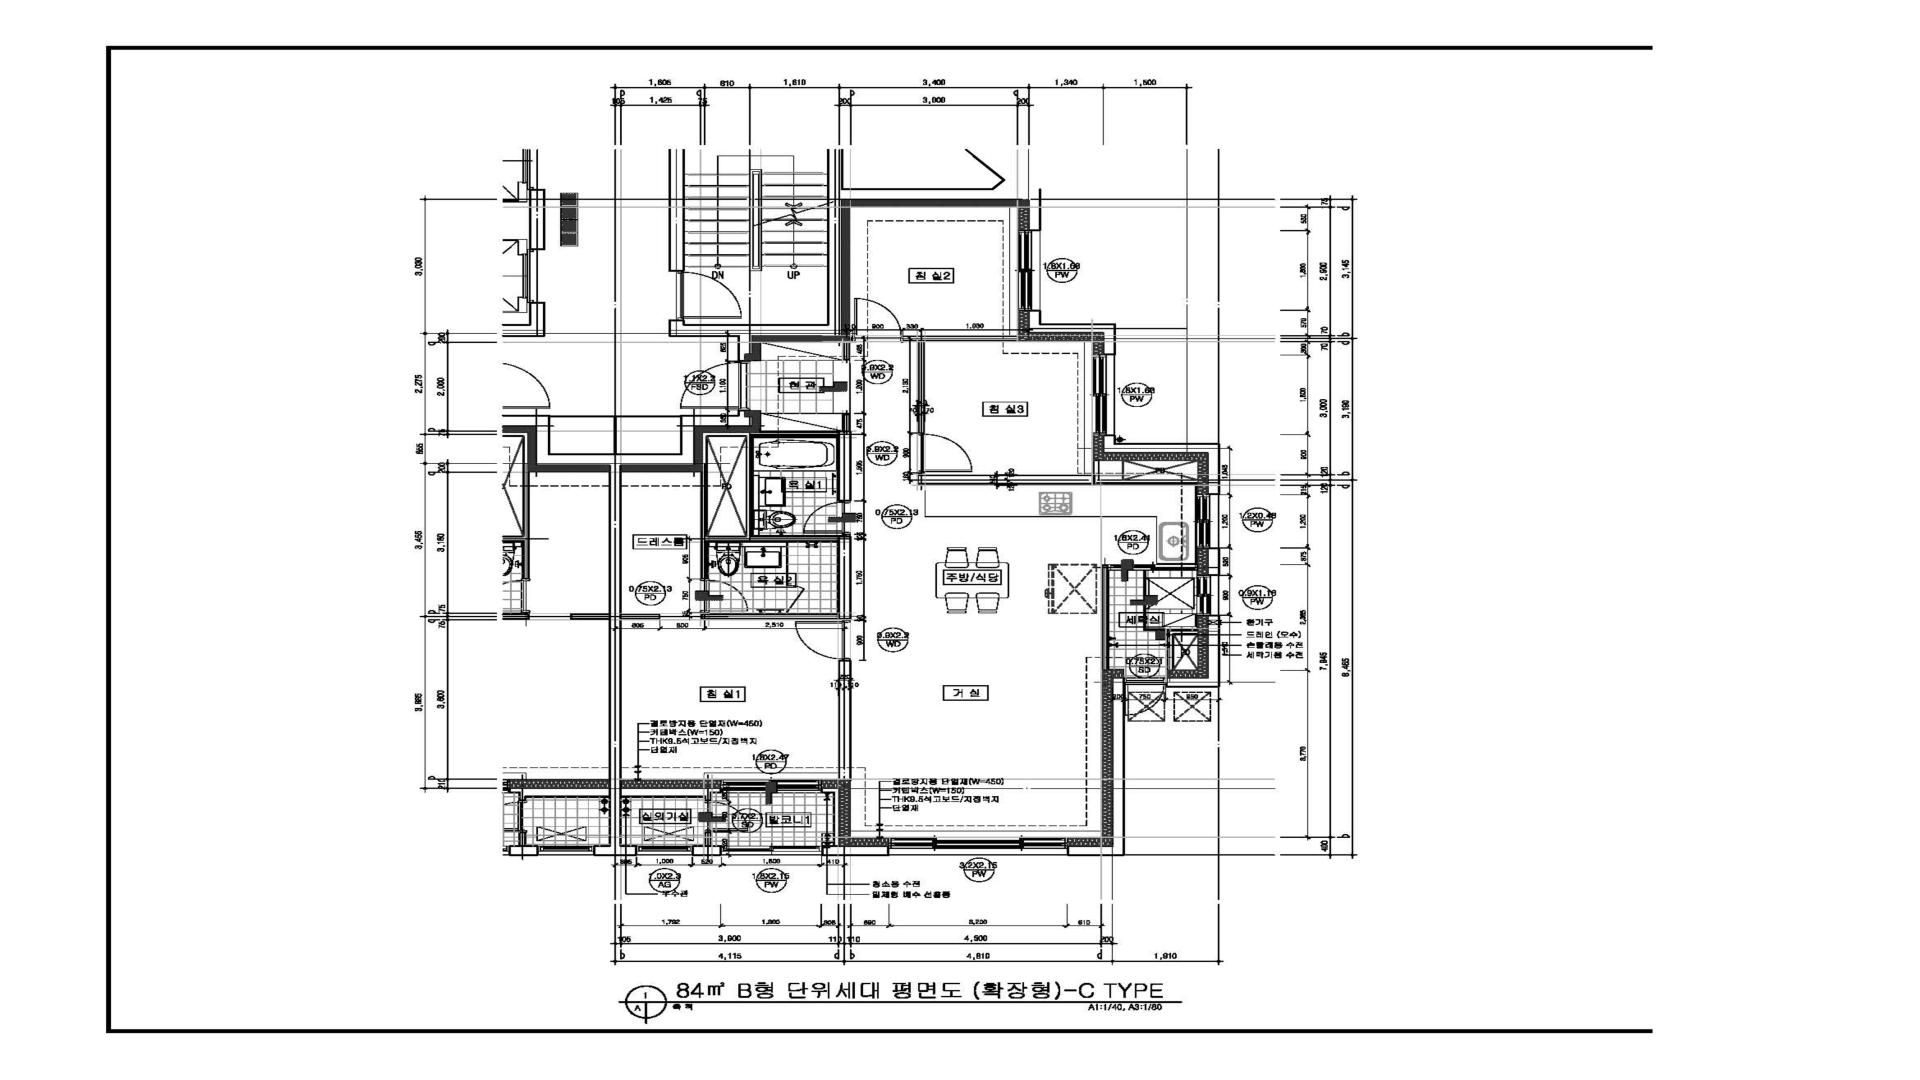door: (680, 360, 751, 410), (676, 272, 743, 319), (850, 297, 902, 341), (794, 620, 851, 660), (922, 435, 978, 474), (804, 501, 851, 536), (700, 579, 747, 613), (1126, 678, 1166, 716), (704, 802, 749, 832), (1109, 563, 1197, 571)
wall: (502, 410, 752, 855), (668, 150, 1041, 361), (1068, 678, 1125, 856), (1105, 435, 1221, 495), (1167, 615, 1221, 688), (1028, 311, 1115, 355), (1092, 461, 1207, 485), (669, 149, 686, 271), (1167, 629, 1207, 676), (917, 475, 1092, 485), (839, 660, 851, 779), (902, 329, 1018, 341), (621, 789, 720, 801), (838, 536, 852, 619), (838, 413, 851, 501), (702, 437, 710, 579), (821, 788, 840, 845), (702, 613, 838, 620), (746, 437, 755, 535), (709, 536, 837, 542), (1102, 564, 1109, 669), (823, 845, 889, 856), (702, 432, 838, 437), (919, 341, 926, 435), (1207, 548, 1221, 576), (693, 845, 721, 857), (622, 614, 660, 619), (844, 341, 850, 360), (705, 831, 712, 845)
window: (889, 837, 1069, 856), (1018, 230, 1044, 310), (1092, 355, 1114, 435), (720, 779, 821, 794), (1195, 495, 1222, 548), (721, 845, 823, 856), (1196, 575, 1222, 615), (637, 845, 693, 856)
